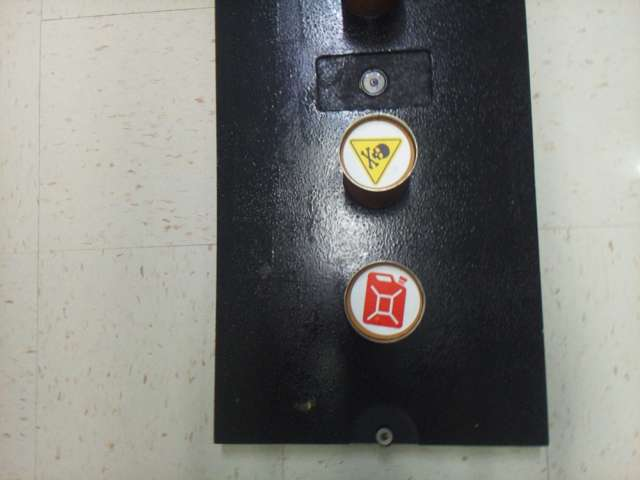gasoline: (351, 264, 420, 336)
toxic_fluid: (343, 122, 409, 187)
